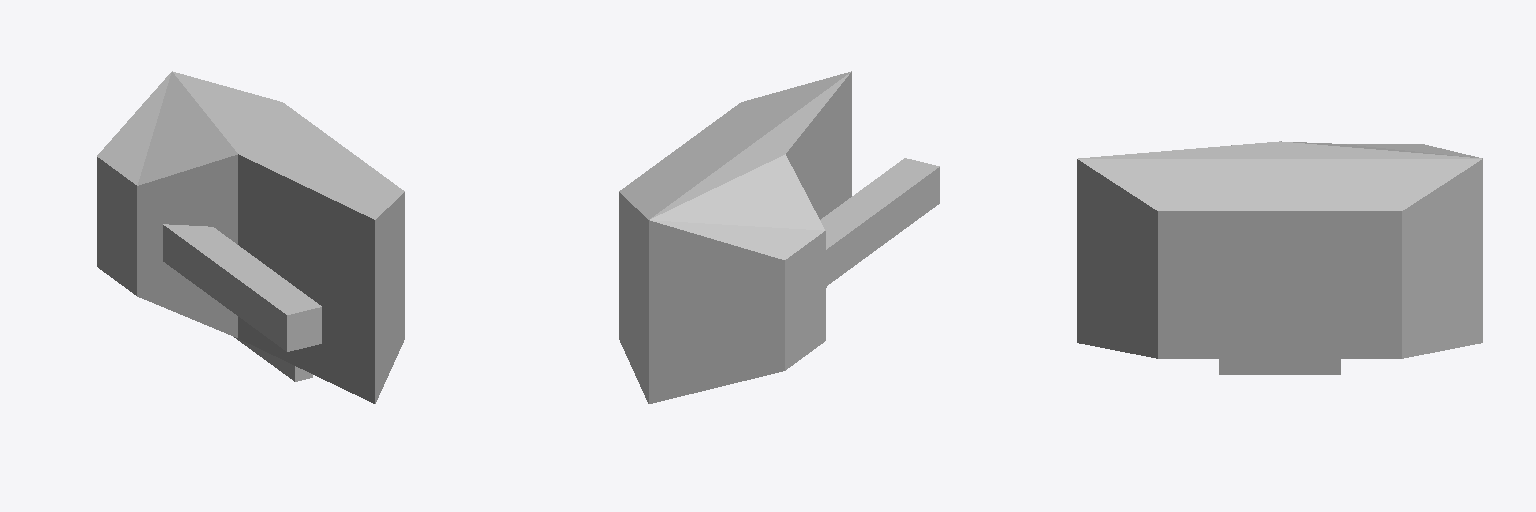
The model's file is heavytank1+z-x.obj.
The picture shows the model from 3 angles: view 1: azimuth 30°, elevation 25°; view 2: azimuth 150°, elevation 25°; view 3: azimuth 270°, elevation 25°; orthographic projection.
Parts seen in each view (by area): view 1: Cube; view 2: Cube; view 3: Cube.
Part boxes in pixels (x1,y1,x2,y2): Cube: (97,71,404,403); Cube: (619,71,939,403); Cube: (1077,141,1482,374).
Bounding box in the file's own units: 1 × 1.15 × 2.